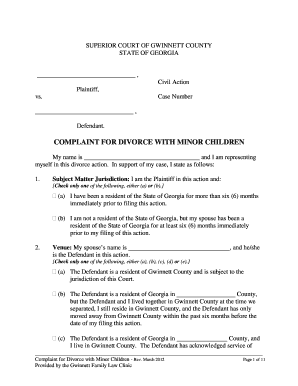checkbox: (51, 192, 57, 199), (51, 215, 57, 222), (51, 268, 57, 275), (51, 290, 57, 297), (51, 335, 57, 342)
textline: (83, 152, 201, 162), (35, 70, 137, 80), (33, 106, 135, 116), (128, 243, 232, 252), (175, 290, 237, 298), (176, 335, 228, 343)
